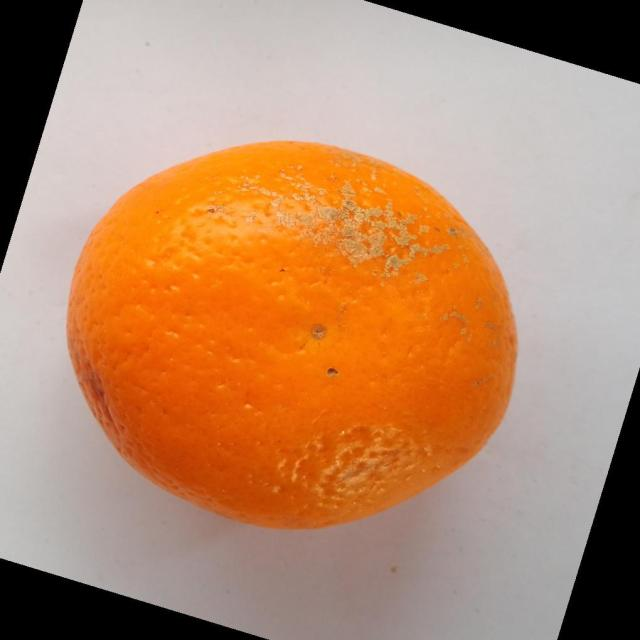fresh orange: (65, 138, 519, 530)
